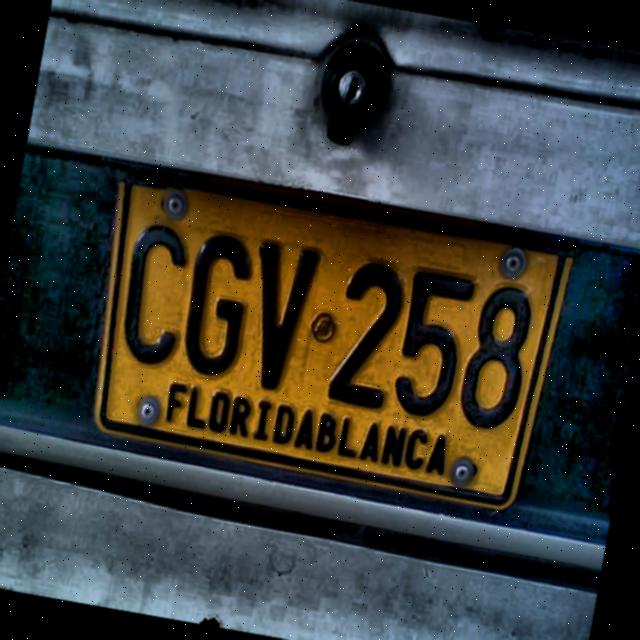plate: (98, 170, 568, 505)
